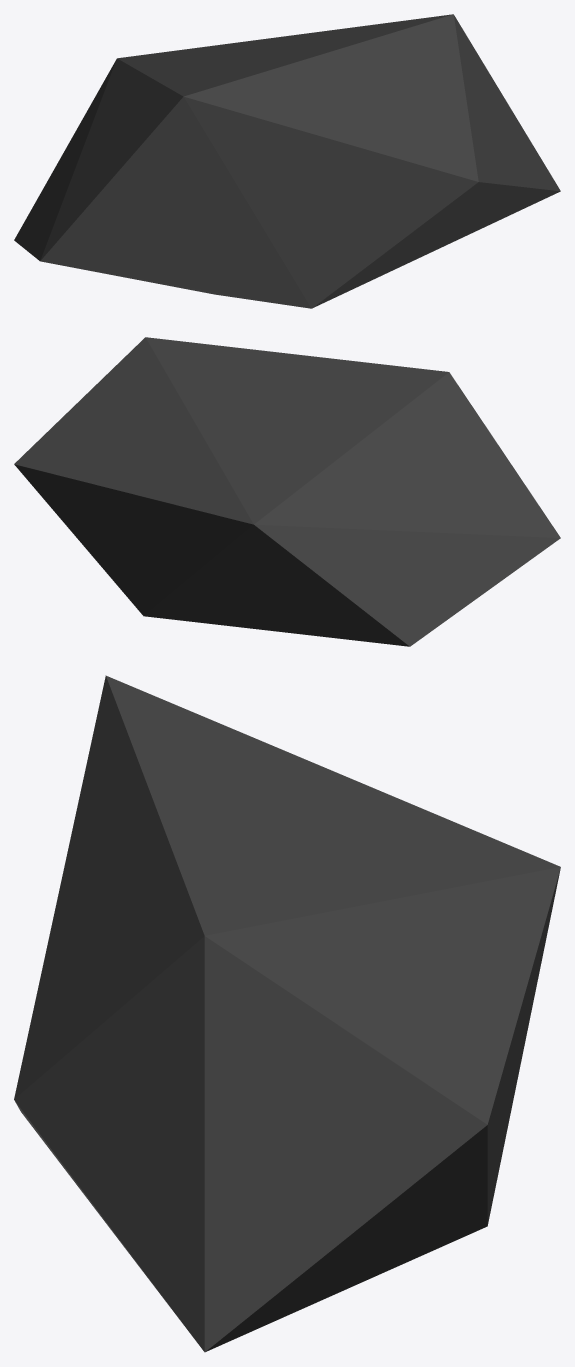
Rendered from stone1.fbx.
3 renders of one model, top to bottom at view 1: azimuth 30°, elevation 25°; view 2: azimuth 150°, elevation 25°; view 3: azimuth 270°, elevation 25°, orthographic. The views are drawn at different scales.
Parts seen in each view (by area): view 1: Stone1; view 2: Stone1; view 3: Stone1.
Boxes of the visible parts, x1,y1,x2,y2 form: Stone1: (14,14,560,308); Stone1: (14,337,560,646); Stone1: (14,675,560,1352).
Size of the model in its own units: 2.89 by 1.21 by 1.56.
